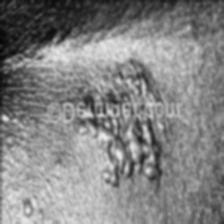Toxin: (79, 67, 159, 188), (20, 200, 33, 219)
